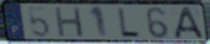1: (88, 5, 109, 39)
5: (27, 5, 52, 38)
6: (145, 5, 171, 40)
A: (173, 6, 206, 40)
H: (54, 6, 86, 38)
L: (116, 7, 142, 39)
